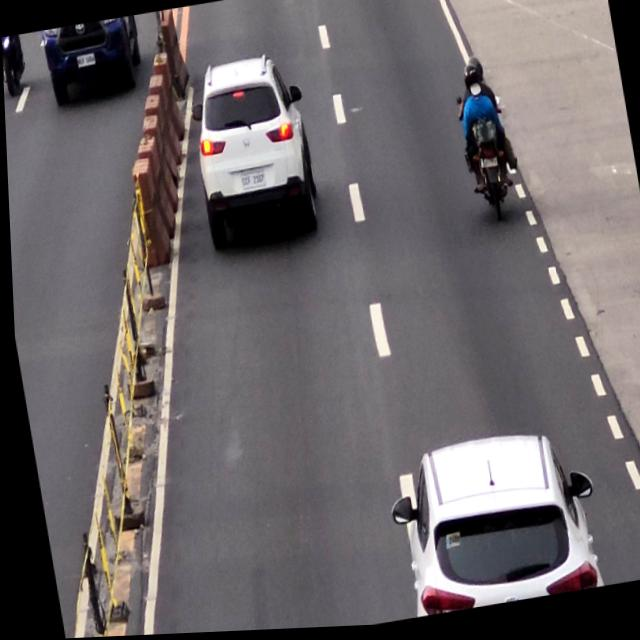Car: (387, 422, 602, 621), (178, 51, 322, 250)
License-Plate: (236, 170, 266, 194), (480, 160, 497, 173)
Motorcycle: (454, 57, 514, 224)
